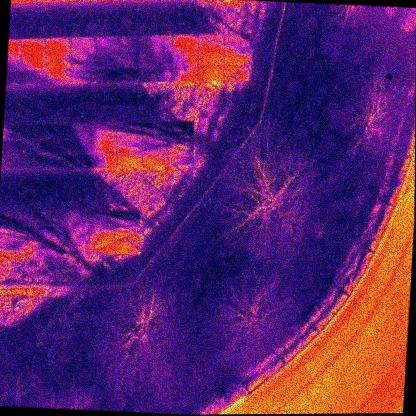Normal: (197, 63, 224, 83), (197, 49, 225, 67), (172, 32, 198, 51), (45, 36, 70, 54), (20, 53, 46, 70), (19, 38, 46, 54), (116, 153, 142, 169), (27, 0, 53, 3)
Shadow: (222, 48, 251, 67), (147, 32, 173, 52), (140, 121, 168, 139), (141, 136, 169, 154), (15, 155, 43, 173), (114, 210, 142, 228), (116, 137, 142, 156), (63, 137, 92, 154), (62, 210, 91, 227), (89, 121, 116, 139), (63, 122, 90, 140), (14, 140, 41, 158), (197, 33, 224, 51), (120, 34, 147, 52), (172, 49, 199, 67), (120, 50, 147, 68), (43, 67, 71, 84), (12, 124, 40, 141), (65, 152, 93, 169), (145, 50, 173, 67), (167, 120, 194, 137), (38, 123, 65, 140), (71, 35, 98, 52), (171, 65, 198, 82), (94, 66, 121, 83), (65, 238, 90, 256), (115, 122, 143, 138), (141, 153, 169, 169), (93, 51, 121, 67), (222, 65, 250, 81), (144, 66, 172, 82), (40, 140, 66, 157), (96, 35, 122, 52), (44, 52, 70, 69), (69, 67, 96, 83), (168, 135, 192, 153), (167, 153, 194, 169), (38, 225, 65, 241), (89, 238, 116, 254), (119, 67, 146, 83), (41, 154, 66, 171), (87, 211, 115, 226), (114, 240, 142, 255), (91, 138, 117, 154), (92, 153, 118, 169), (69, 52, 95, 68), (88, 225, 115, 240), (113, 227, 140, 242), (39, 240, 66, 255), (223, 33, 250, 48), (19, 69, 45, 84), (37, 212, 63, 227), (63, 226, 90, 240), (12, 225, 39, 238), (14, 238, 41, 251), (12, 213, 38, 226)
